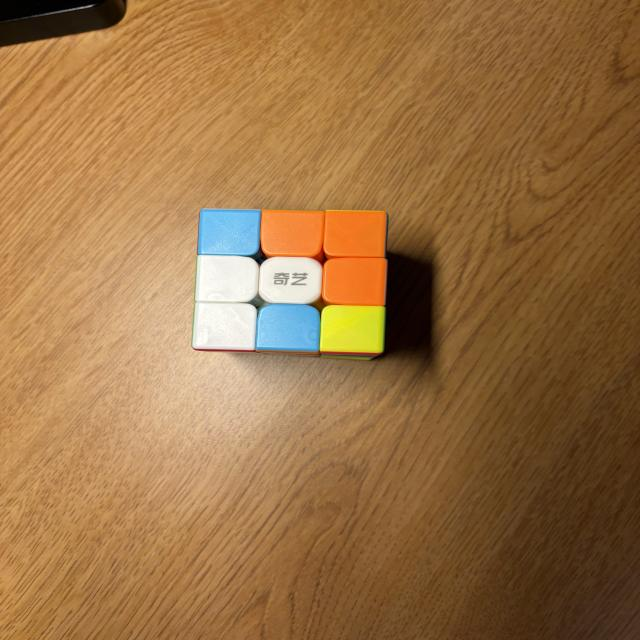Rubiks Cube: (194, 211, 384, 354)
